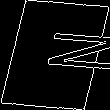N_W: (5, 32, 105, 78)
